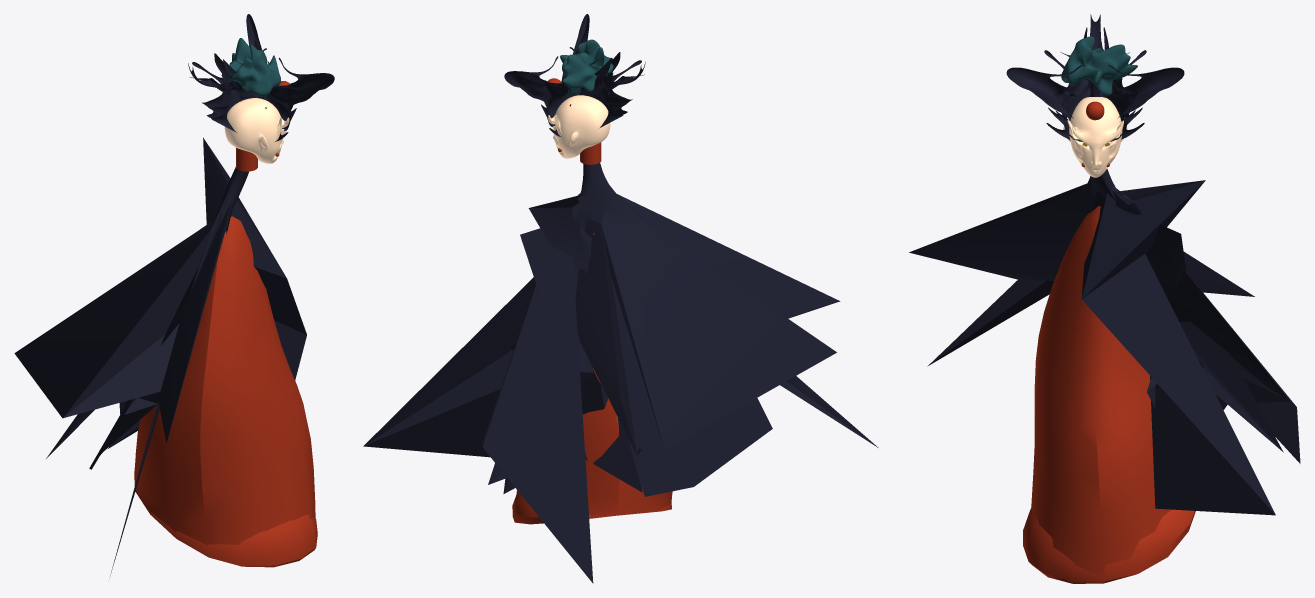
File: avatar.gltf
3 renders of one model, left to right at view 1: azimuth 30°, elevation 25°; view 2: azimuth 150°, elevation 25°; view 3: azimuth 270°, elevation 25°, orthographic. The views are drawn at different scales.
Visible parts, largest first — view 1: Avatar_n3d; view 2: Avatar_n3d; view 3: Avatar_n3d.
Part boxes in pixels (x1,y1,x2,y2): Avatar_n3d: [14, 14, 334, 576]; Avatar_n3d: [363, 14, 878, 583]; Avatar_n3d: [909, 14, 1300, 583].
Bounding box in the file's own units: 3.43 × 4.46 × 3.05.
